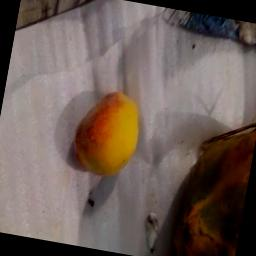Peach Ripe: (60, 76, 162, 192)
